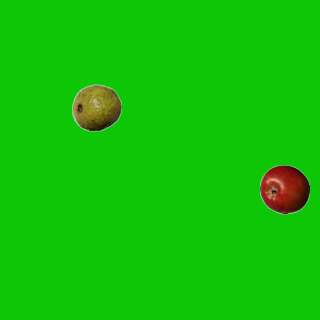Apple Braeburn: (259, 164, 309, 214)
Guava: (71, 82, 121, 132)
